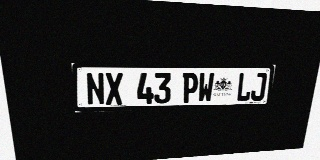3: (154, 73, 171, 104)
4: (137, 73, 154, 104)
J: (250, 73, 267, 101)
L: (236, 73, 253, 101)
N: (85, 73, 105, 105)
P: (181, 73, 199, 103)
W: (197, 73, 214, 102)
X: (105, 73, 123, 105)
